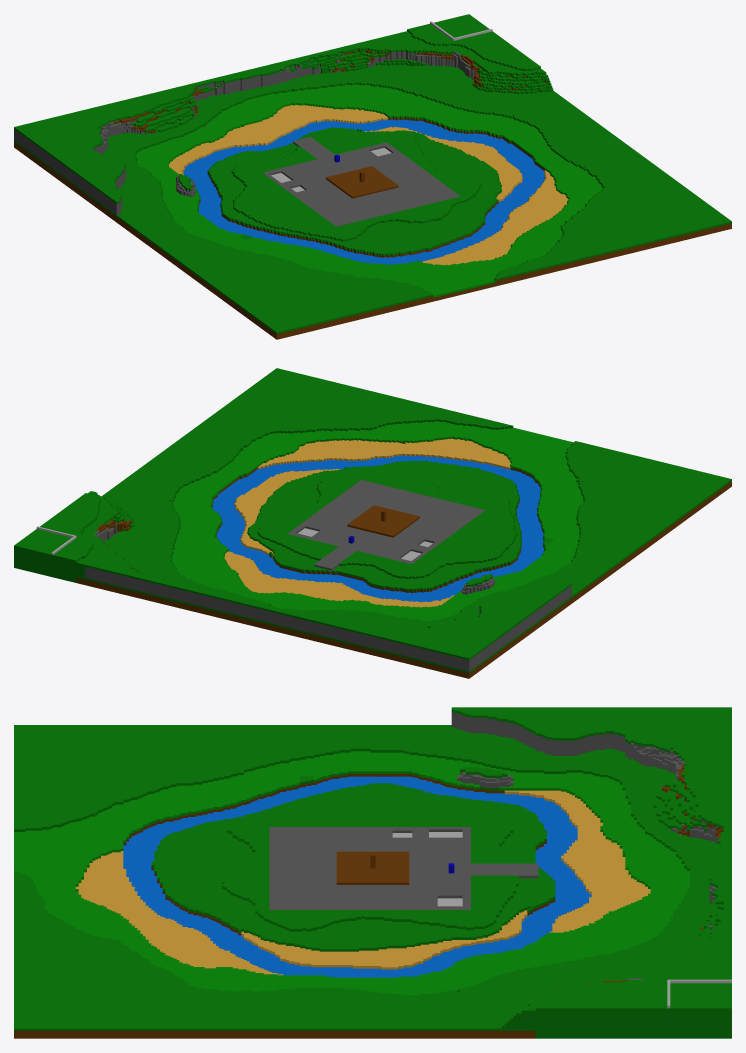
File: mapTest.glb
The picture shows the model from 3 angles, top to bottom: view 1: azimuth 30°, elevation 25°; view 2: azimuth 150°, elevation 25°; view 3: azimuth 270°, elevation 25°; orthographic projection. The views are drawn at different scales.
Visible parts, largest first — view 1: Node1; view 2: Node1; view 3: Node1.
Part boxes in pixels (bbox=[...]): Node1: bbox=[14, 14, 731, 339]; Node1: bbox=[14, 368, 731, 678]; Node1: bbox=[14, 707, 731, 1038].
Bounding box in the file's own units: 25.6 × 1.3 × 25.6.
Materials: 1 (1 with a texture image).
